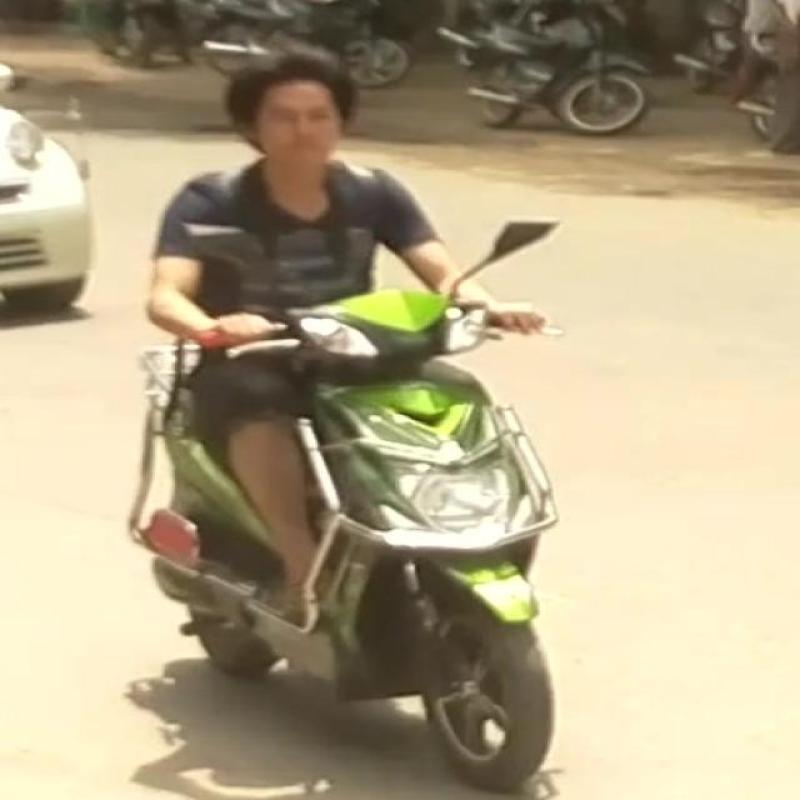nohelmet: (198, 52, 388, 202)
